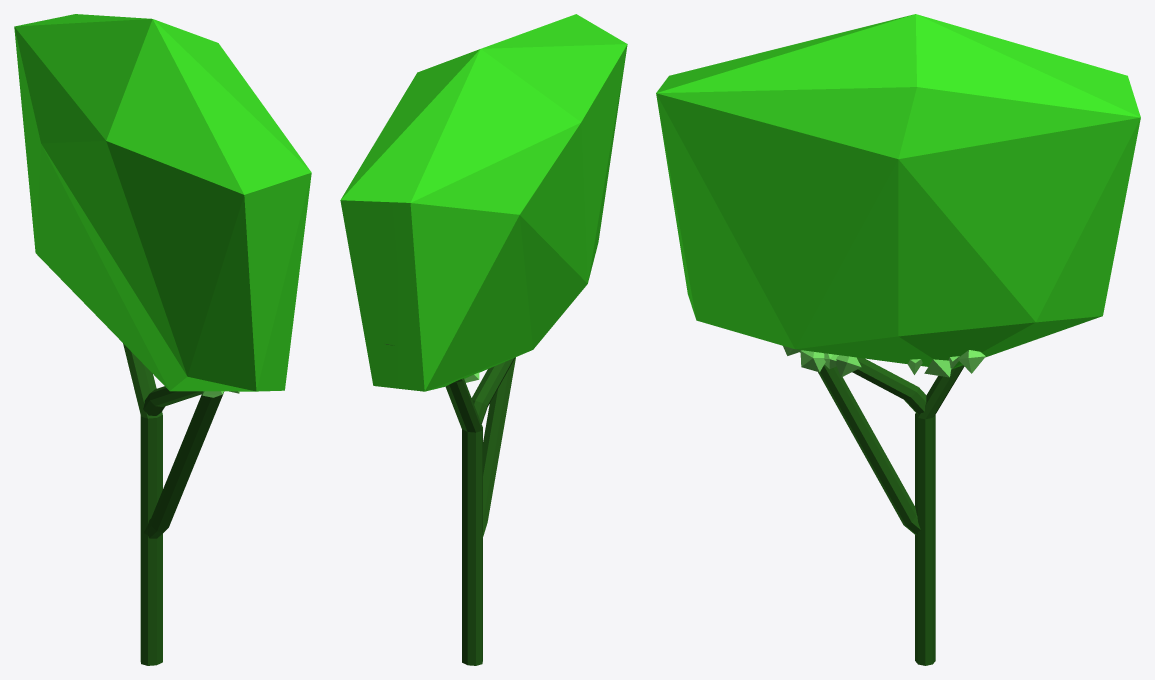
File: ジャトロファ.fbx
3 renders of one model, left to right at view 1: azimuth 30°, elevation 25°; view 2: azimuth 150°, elevation 25°; view 3: azimuth 270°, elevation 25°, orthographic. The views are drawn at different scales.
Parts seen in each view (by area): view 1: ICO球, 円柱.002; view 2: ICO球, 円柱.002; view 3: ICO球, 円柱.002, ICO球.002.
Boxes of the visible parts, x1,y1,x2,y2 form: ICO球: (14,14,311,391); 円柱.002: (123,343,224,665); ICO球: (340,14,627,391); 円柱.002: (384,343,515,665); ICO球: (656,14,1140,368); 円柱.002: (818,357,964,665); ICO球.002: (783,346,985,377).
Bounding box in the file's own units: 115 × 427 × 291.
